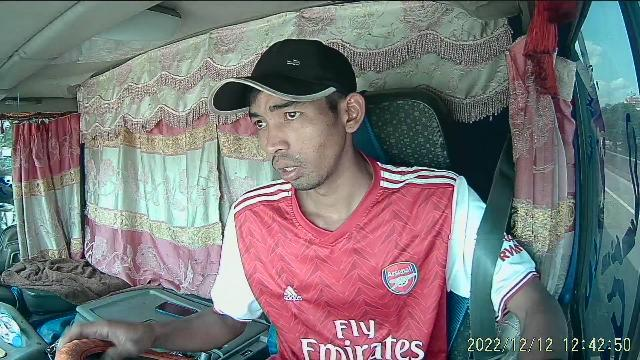PhoneUse: (154, 298, 200, 320)
SafeDriving: (276, 102, 308, 124), (250, 114, 268, 132)
